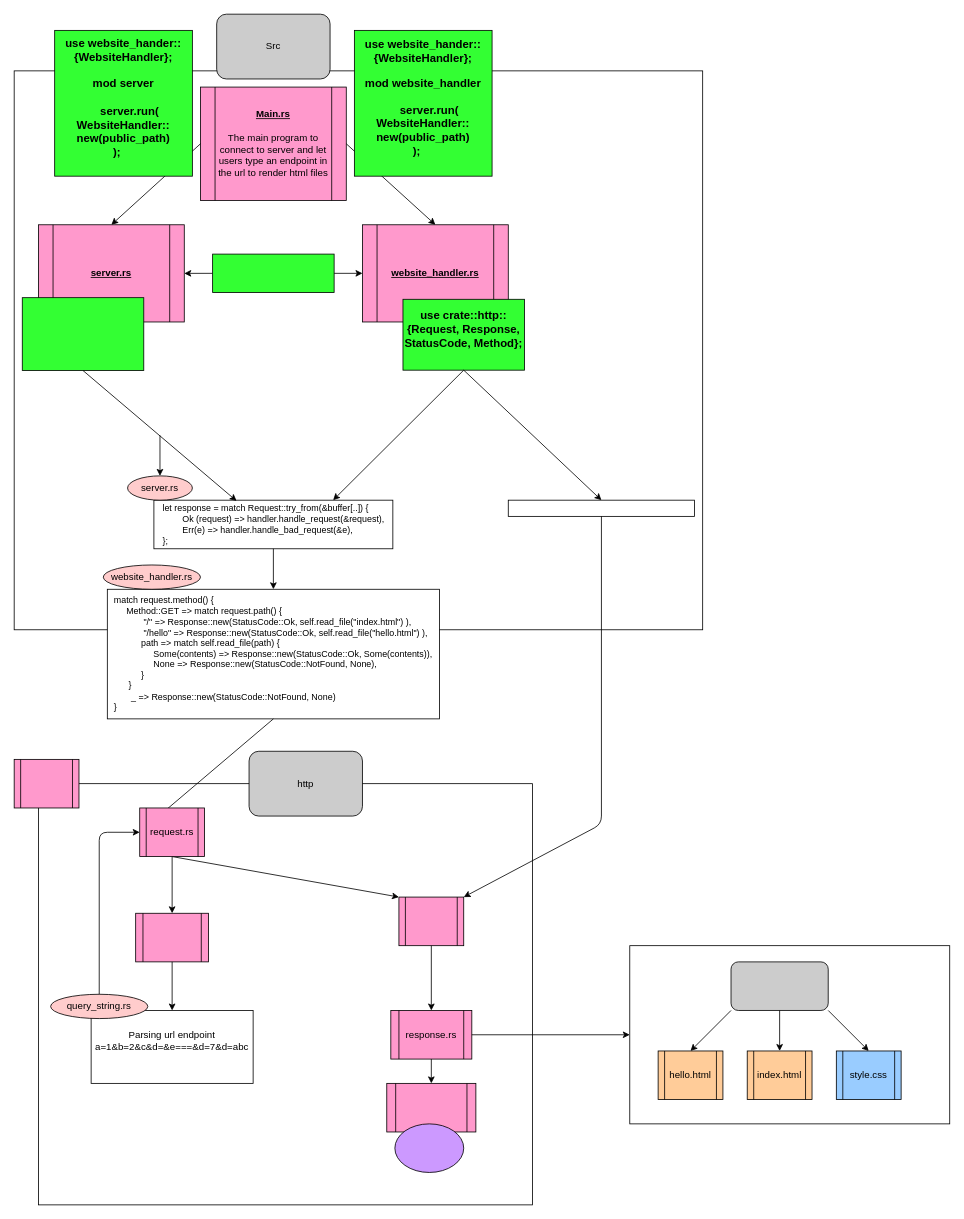
The diagram is 964 pixels wide and 1219 high, and some of its shapes have lost their labels. Each missing label, with the centre of its shape:
method.rs: the point at 431,921
mod.rs: the point at 46,783
Public: the point at 779,985
query_str.rs: the point at 172,937
Status 200 (success) or 400 error: the point at 429,1147
status_code.rs: the point at 431,1107
use crate::http::{Request, Response, StatusCode, ParseError};: the point at 82,334
use super::server::{Handler};: the point at 273,273
websiteHander is calling GET method enpoint: the point at 601,507
